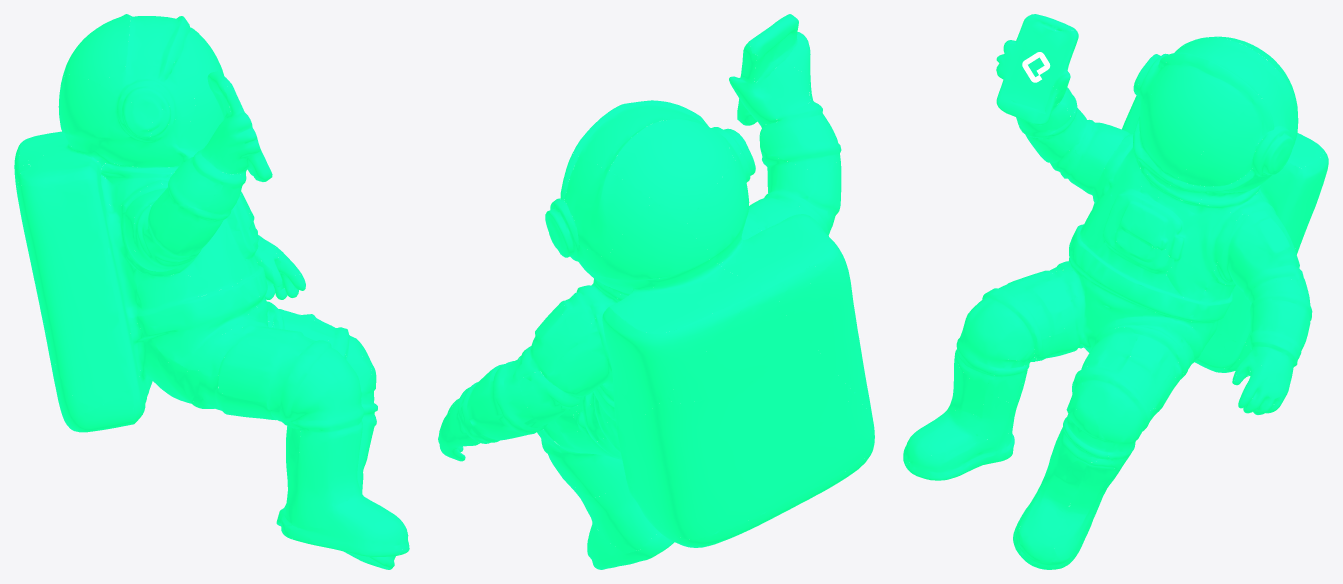
File: Astro.glb
3 views of the same model, side by side, from view 1: azimuth 30°, elevation 25°; view 2: azimuth 150°, elevation 25°; view 3: azimuth 270°, elevation 25° (orthographic). The views are drawn at different scales.
Visible parts, largest first — view 1: astronaut; view 2: astronaut; view 3: astronaut.
Part boxes in pixels (<box>): astronaut: <box>14,14,409,569</box>; astronaut: <box>438,14,874,569</box>; astronaut: <box>903,14,1328,569</box>.
Bounding box in the file's own units: 0.63 × 0.9999 × 0.7983.
